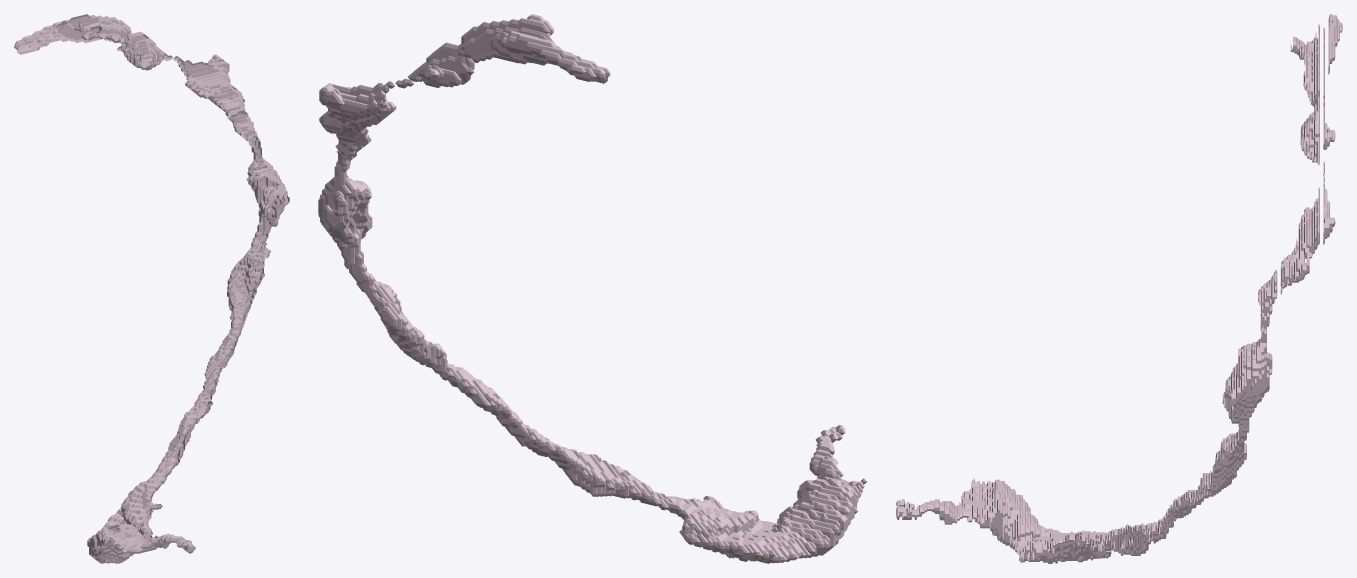
File: SVV_AIYR.gltf
3 views of the same model, side by side, from view 1: azimuth 30°, elevation 25°; view 2: azimuth 150°, elevation 25°; view 3: azimuth 270°, elevation 25° (orthographic). The views are drawn at different scales.
Visible parts, largest first — view 1: AIYR; view 2: AIYR; view 3: AIYR.
Boxes of the visible parts, bbox=[...] form: AIYR: bbox=[14, 14, 289, 563]; AIYR: bbox=[318, 14, 867, 563]; AIYR: bbox=[896, 14, 1342, 563].
Size of the model in its own units: 64561 by 96818 by 68156.
